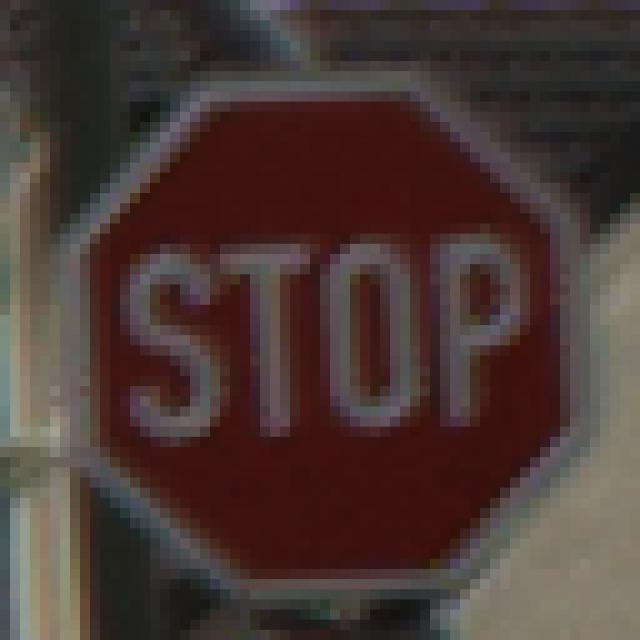STOP: (51, 62, 581, 580)
